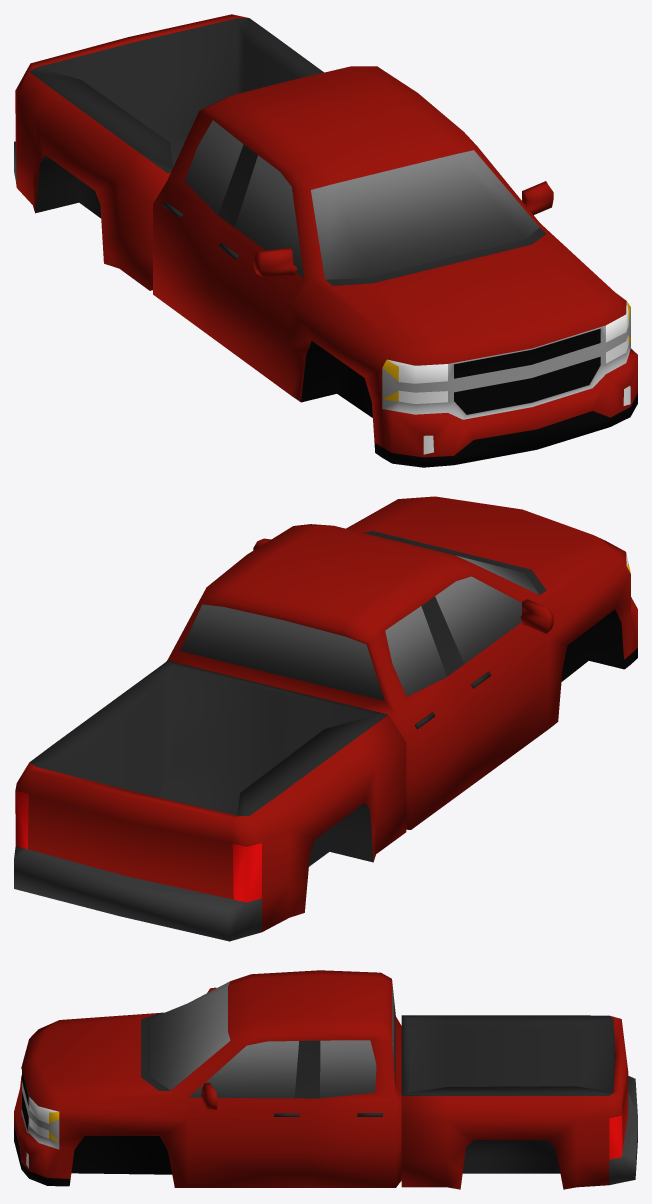
File: truckWithoutWheels-DBph6hH8.glb
3 renders of one model, top to bottom at view 1: azimuth 30°, elevation 25°; view 2: azimuth 150°, elevation 25°; view 3: azimuth 270°, elevation 25°, orthographic. The views are drawn at different scales.
Parts seen in each view (by area): view 1: Pickup1.Body; view 2: Pickup1.Body; view 3: Pickup1.Body.
Boxes of the visible parts, x1=… form: Pickup1.Body: x1=14, y1=14, x2=637, y2=467; Pickup1.Body: x1=14, y1=496, x2=637, y2=941; Pickup1.Body: x1=14, y1=970, x2=637, y2=1189.
Size of the model in its own units: 2.39 by 1.49 by 5.84.
Materials: 2 (2 with a texture image).
